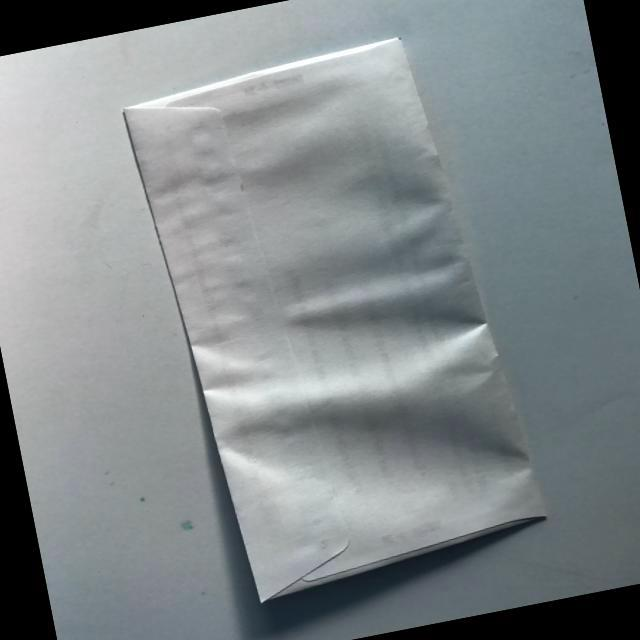paper: (93, 19, 572, 627)
